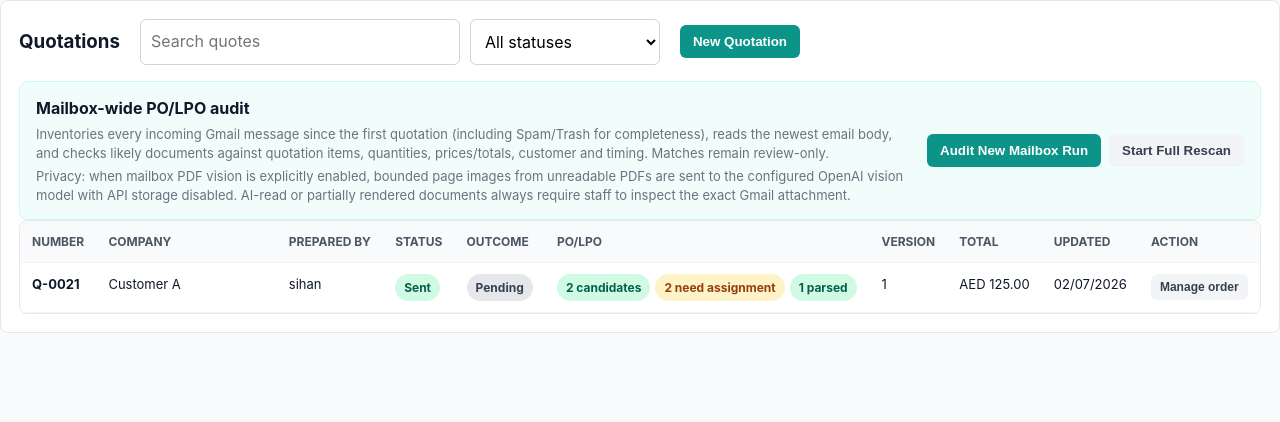
Test: QuotationList PO/LPO evidence summaries › shows mailbox inventory and safe-match totals returned by the audit API
Expected: the text "Q-0021" is shown, 32,276 -> 80,292
Click the button "Audit New Mailbox Run": (1014, 150) 927,134 -> 1101,167
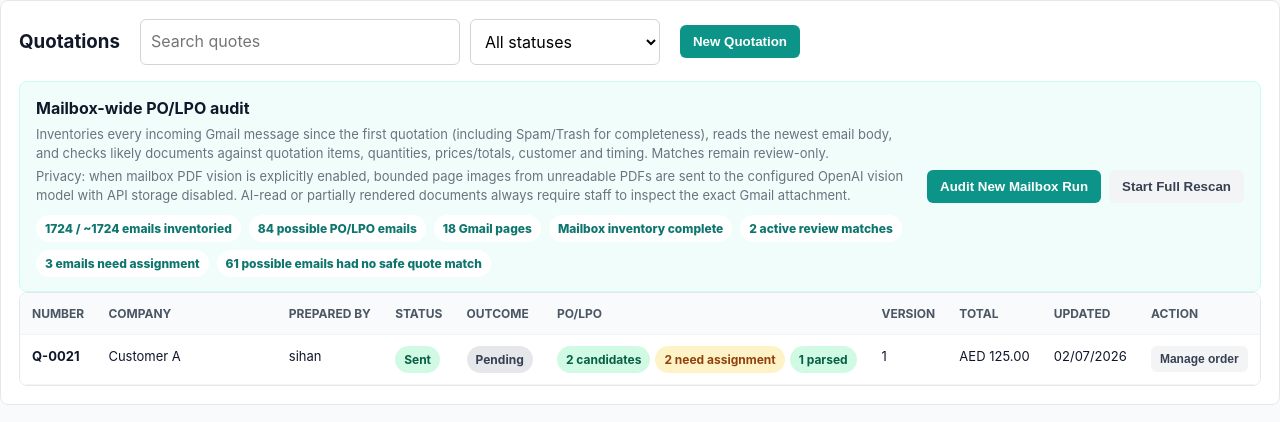
Result: the text "1724 / ~1724 emails inventoried" is shown at 36,215 -> 241,242
Result: the text "84 possible PO/LPO emails" is shown at 249,215 -> 426,242
Result: the text "2 active review matches" is shown at 740,215 -> 902,242
